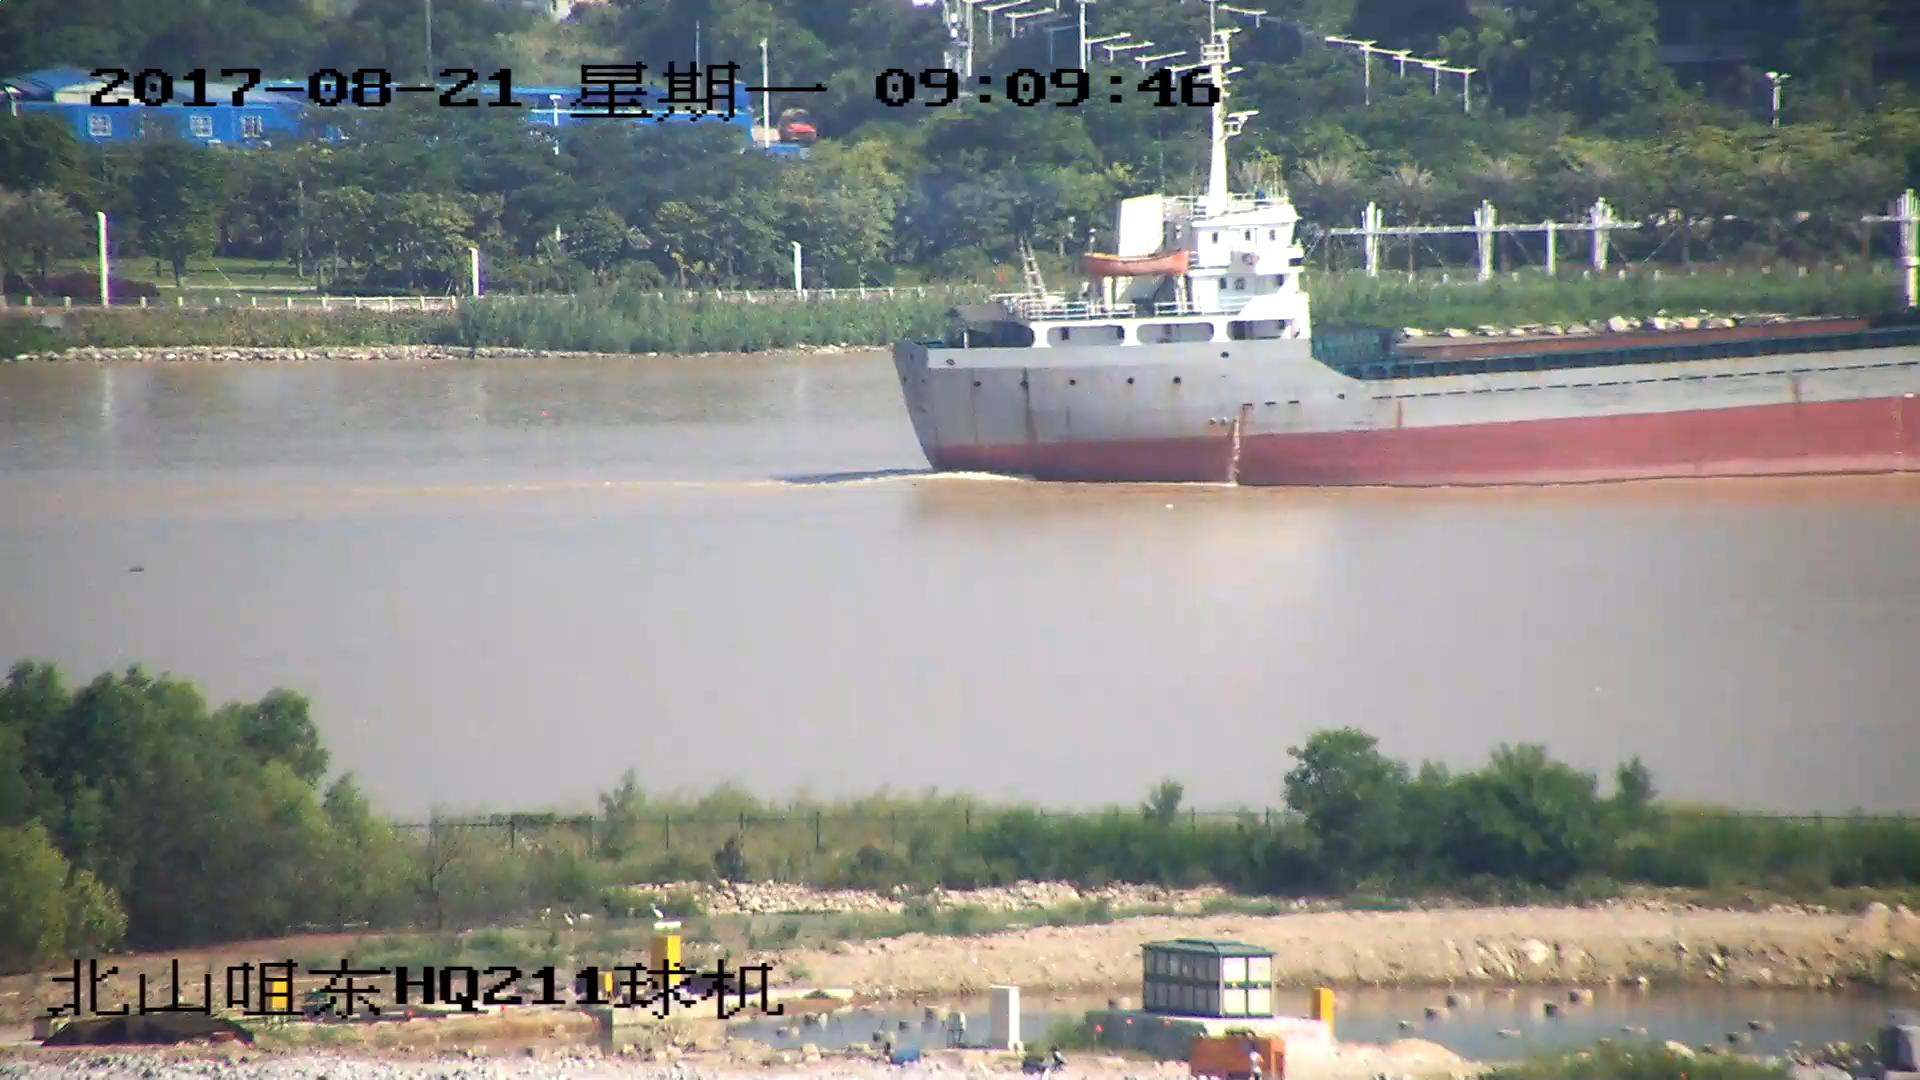general cargo ship: (895, 113, 1920, 484)
